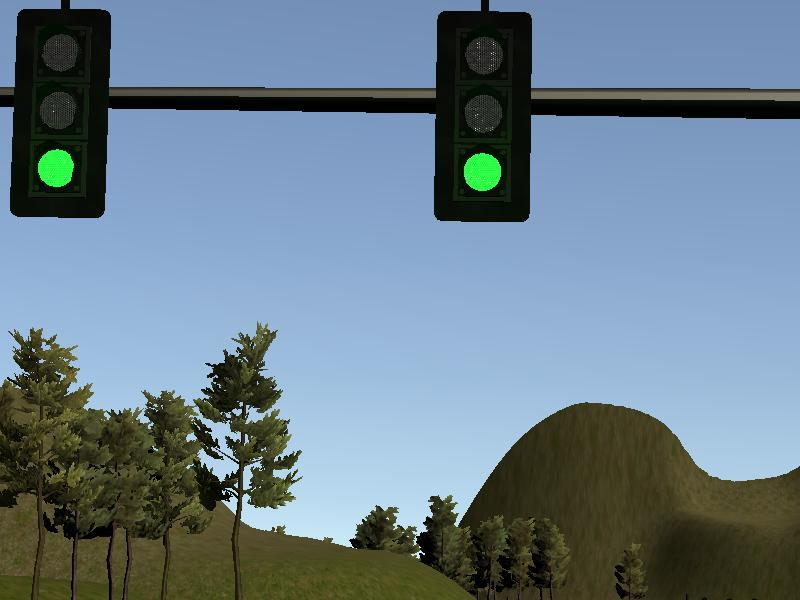Green: (432, 11, 531, 222), (12, 9, 107, 216)
